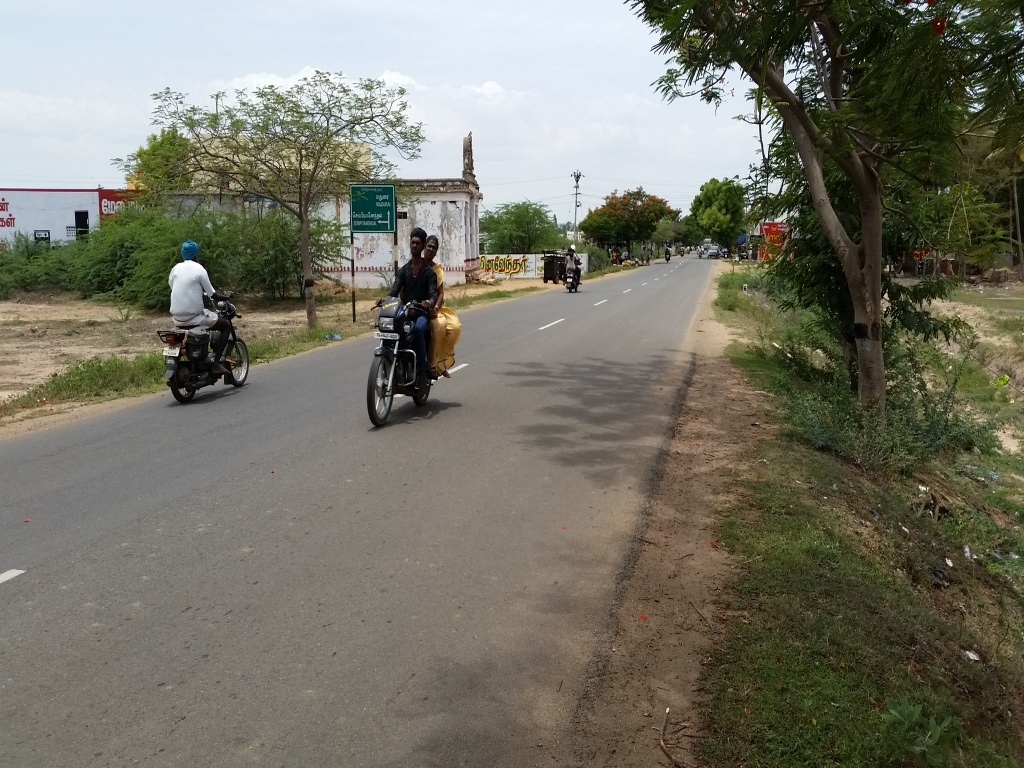biker: (337, 191, 483, 440), (142, 212, 258, 417)
nohelmet: (177, 231, 206, 275), (405, 222, 427, 270), (421, 228, 442, 270)
